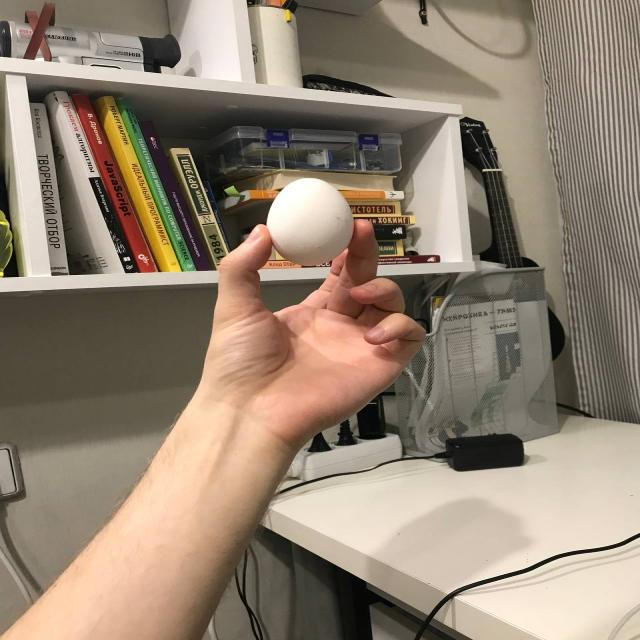egg: (266, 176, 354, 266)
